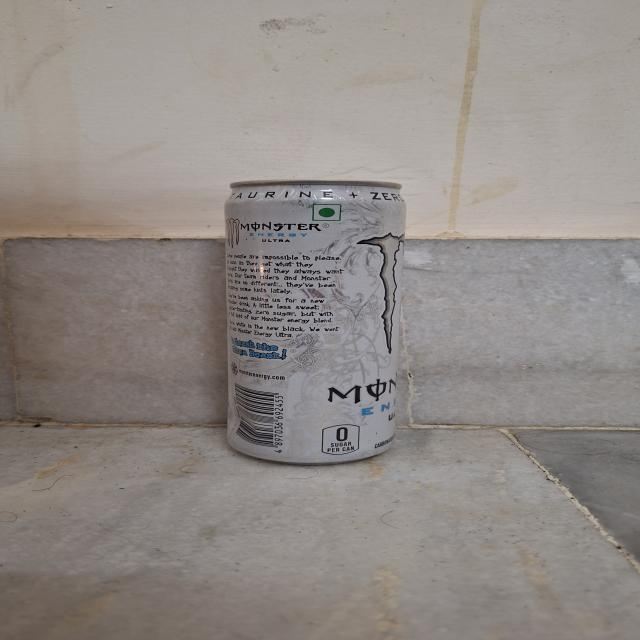White Monster: (216, 173, 427, 458)
